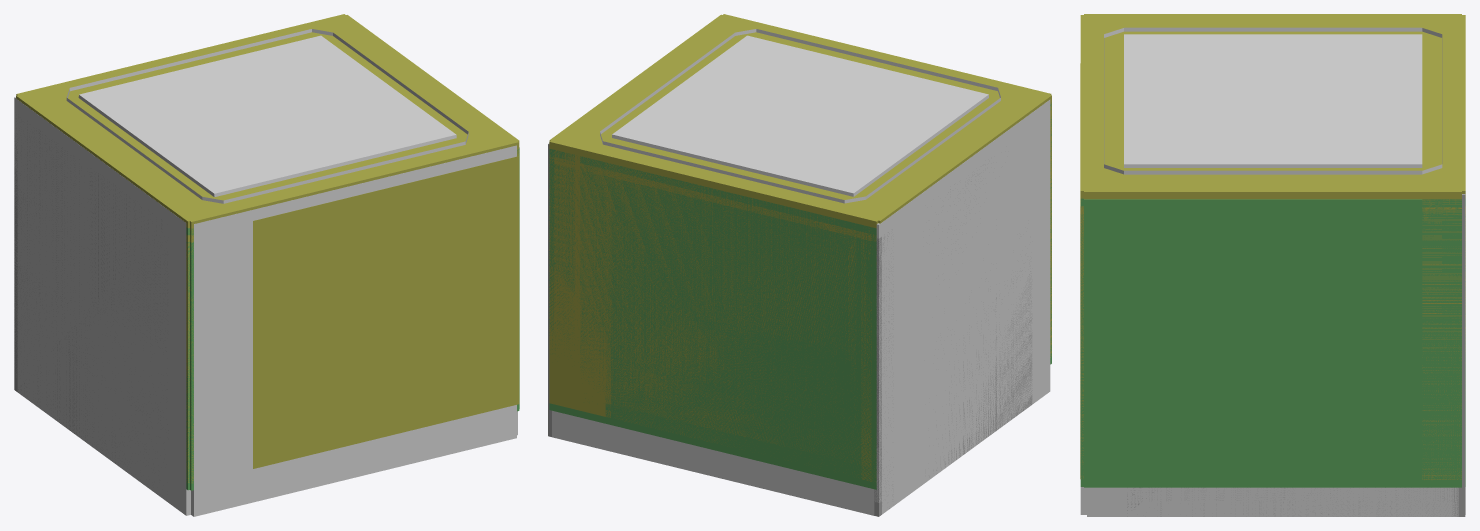
File: WeirdCube.fbx
3 renders of one model, left to right at view 1: azimuth 30°, elevation 25°; view 2: azimuth 150°, elevation 25°; view 3: azimuth 270°, elevation 25°, orthographic. The views are drawn at different scales.
Visible parts, largest first — view 1: pCube245, pCube94, pCube2, pCube103, pCube196, pCube73, pCube233, pCube69, pCube201, pCube210, pCube79, pCube91 (+42 smaller); view 2: pCube2, pCube103, pCube10, pCube12, pCube217, pCube44, pCube36, pCube91, pCube137, pCube30, pCube89, pCube215 (+65 smaller); view 3: pCube126, pCube240, pCube2, pCube174, pCube137, pCube109, pCube223, pCube150, pCube231, pCube222, pCube143, pCube117 (+47 smaller).
Boxes of the visible parts, <box> form: pCube245: <box>253,156,519,468</box>; pCube94: <box>26,127,180,510</box>; pCube2: <box>66,29,468,203</box>; pCube103: <box>17,115,171,503</box>; pCube196: <box>204,157,470,500</box>; pCube73: <box>214,230,414,511</box>; pCube233: <box>94,19,506,172</box>; pCube69: <box>219,228,358,510</box>; pCube201: <box>38,100,454,435</box>; pCube210: <box>26,106,180,422</box>; pCube79: <box>204,224,406,513</box>; pCube91: <box>29,124,183,512</box>; pCube2: <box>600,29,1000,203</box>; pCube103: <box>882,124,1035,514</box>; pCube10: <box>575,172,840,480</box>; pCube12: <box>564,166,830,477</box>; pCube217: <box>882,110,1035,499</box>; pCube44: <box>611,179,876,489</box>; pCube36: <box>656,204,861,485</box>; pCube91: <box>894,171,1047,505</box>; pCube137: <box>570,35,963,426</box>; pCube30: <box>633,198,850,482</box>; pCube89: <box>897,115,1050,502</box>; pCube215: <box>623,70,1039,218</box>; pCube126: <box>1084,215,1422,487</box>; pCube240: <box>1084,199,1422,471</box>; pCube2: <box>1104,27,1442,174</box>; pCube174: <box>1080,40,1418,182</box>; pCube137: <box>1127,37,1465,179</box>; pCube109: <box>1087,488,1425,516</box>; pCube223: <box>1087,487,1425,501</box>; pCube150: <box>1127,29,1465,171</box>; pCube231: <box>1422,199,1448,472</box>; pCube222: <box>1084,186,1422,199</box>; pCube143: <box>1127,43,1465,185</box>; pCube117: <box>1422,214,1448,487</box>.
Size of the model in its own units: 124 by 107 by 114.
